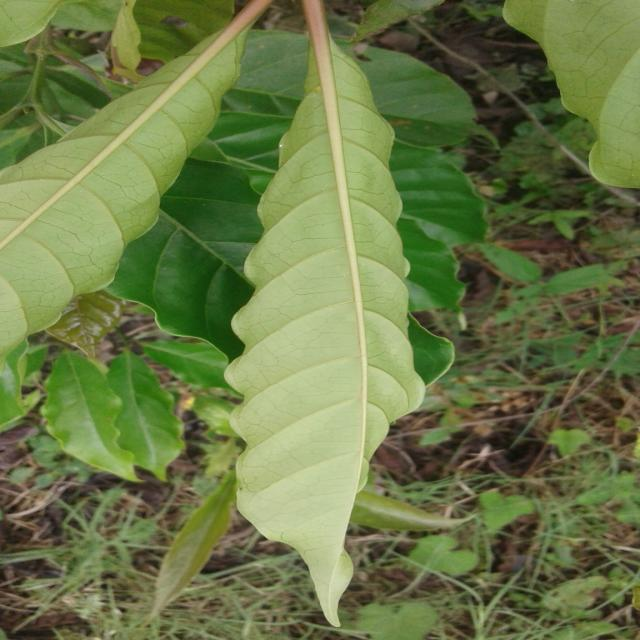Sanas: (224, 46, 455, 629)
